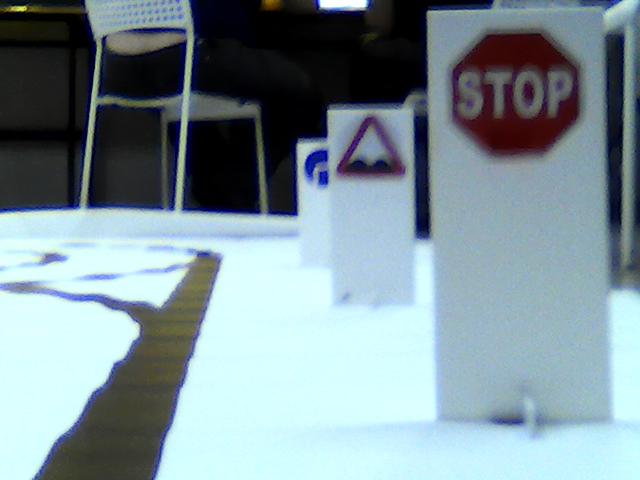Nerov: (334, 116, 408, 176)
Stop: (451, 27, 582, 156)
